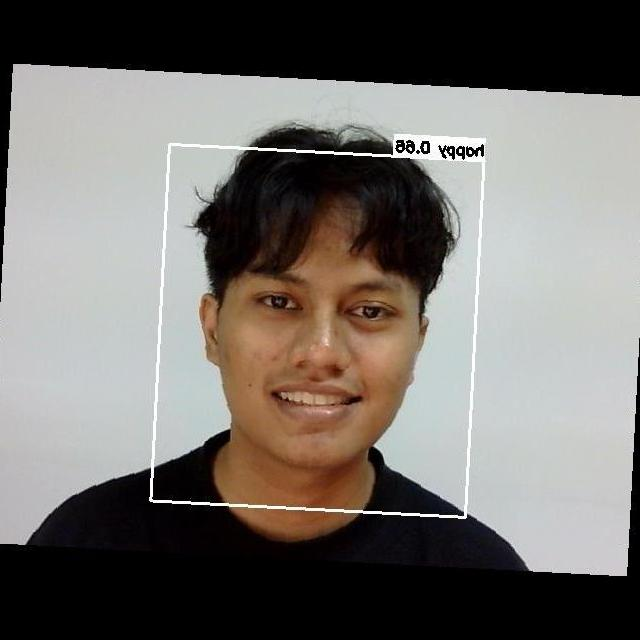Happy: (233, 243, 420, 444)
